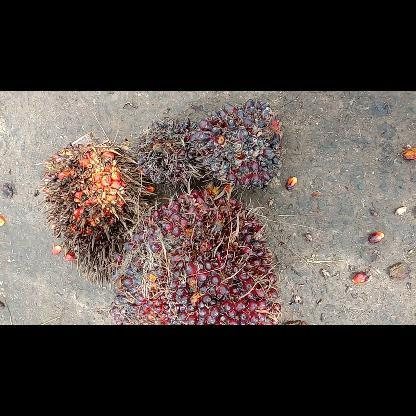TBS abnormal: (190, 98, 286, 192), (134, 117, 202, 190)
TBS masak: (106, 188, 284, 324)
Terlalu masak: (37, 130, 149, 289)
